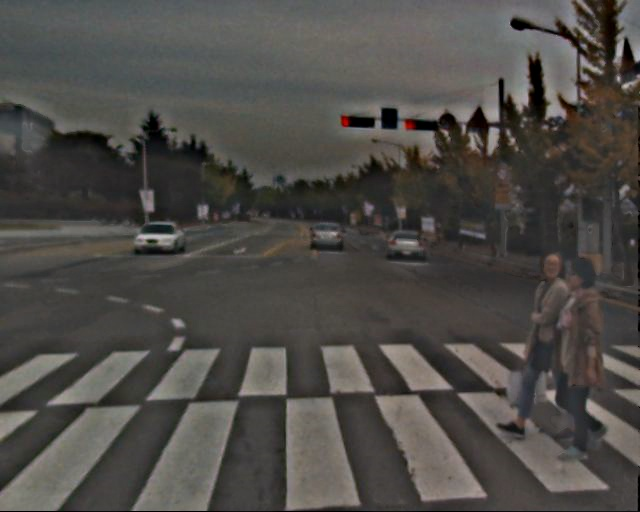person: (546, 252, 625, 460), (516, 243, 587, 449)
